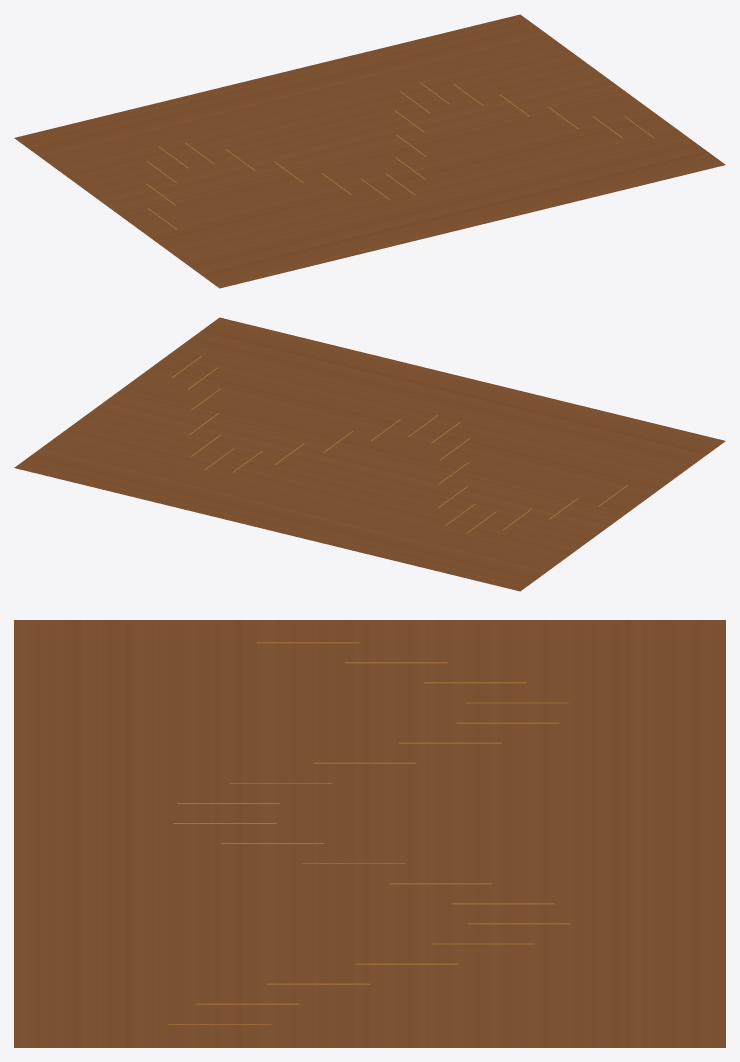
File: 252_L118_L15_LayerReference.obj
3 renders of one model, top to bottom at view 1: azimuth 30°, elevation 25°; view 2: azimuth 150°, elevation 25°; view 3: azimuth 270°, elevation 25°, orthographic. The views are drawn at different scales.
Visible parts, largest first — view 1: 252_L118_L15_LayerReference; view 2: 252_L118_L15_LayerReference; view 3: 252_L118_L15_LayerReference.
Boxes of the visible parts, x1,y1,x2,y2 form: 252_L118_L15_LayerReference: (14,14,725,288); 252_L118_L15_LayerReference: (14,317,725,591); 252_L118_L15_LayerReference: (14,620,725,1047).
Bounding box in the file's own units: 0.472 × 0.000494 × 0.332.
Materials: 2 (2 with a texture image).
